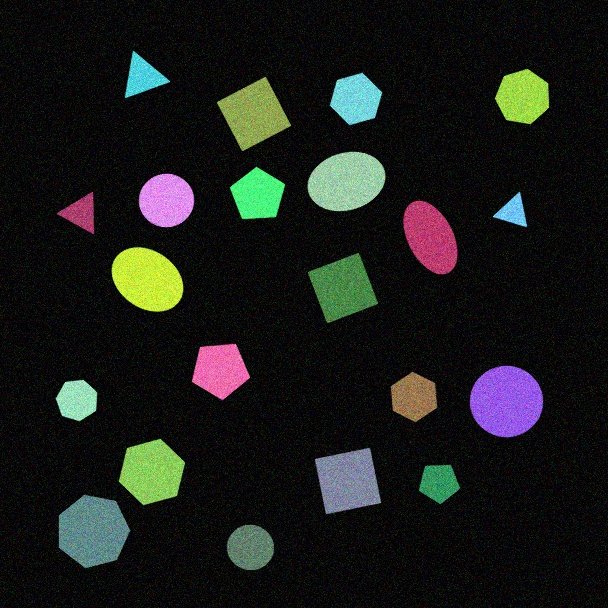Circulo: (469, 365, 544, 438), (138, 173, 195, 228), (226, 524, 275, 571)
Elipse: (307, 151, 386, 212), (111, 247, 184, 312), (403, 200, 458, 275)
Heptagono: (58, 494, 131, 569), (494, 68, 550, 125), (55, 379, 98, 422)
Hexagono: (118, 438, 186, 506), (329, 72, 383, 126), (390, 371, 438, 423)
Pentagono: (191, 343, 251, 401), (229, 166, 286, 220), (418, 464, 461, 505)
Quadrado: (216, 76, 292, 152), (307, 252, 379, 324), (314, 447, 382, 515)
Triangulo: (124, 50, 171, 99), (57, 191, 95, 235), (493, 191, 528, 228)
